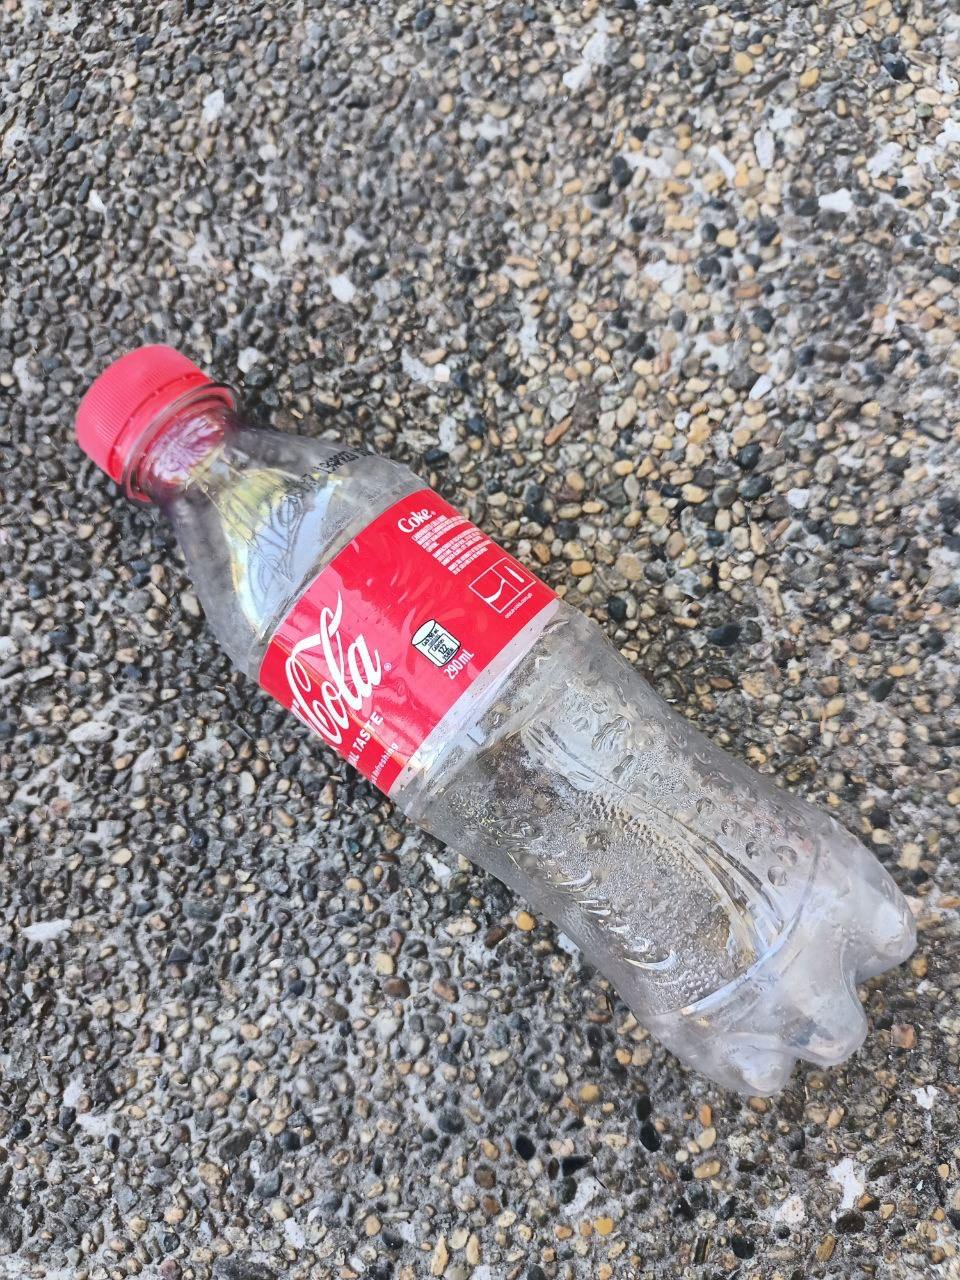plastic: (51, 318, 939, 1150)
